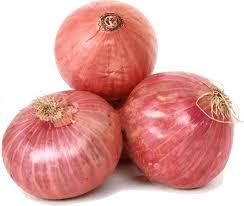non-mango: (118, 70, 237, 189), (0, 88, 123, 200), (53, 0, 158, 100)
